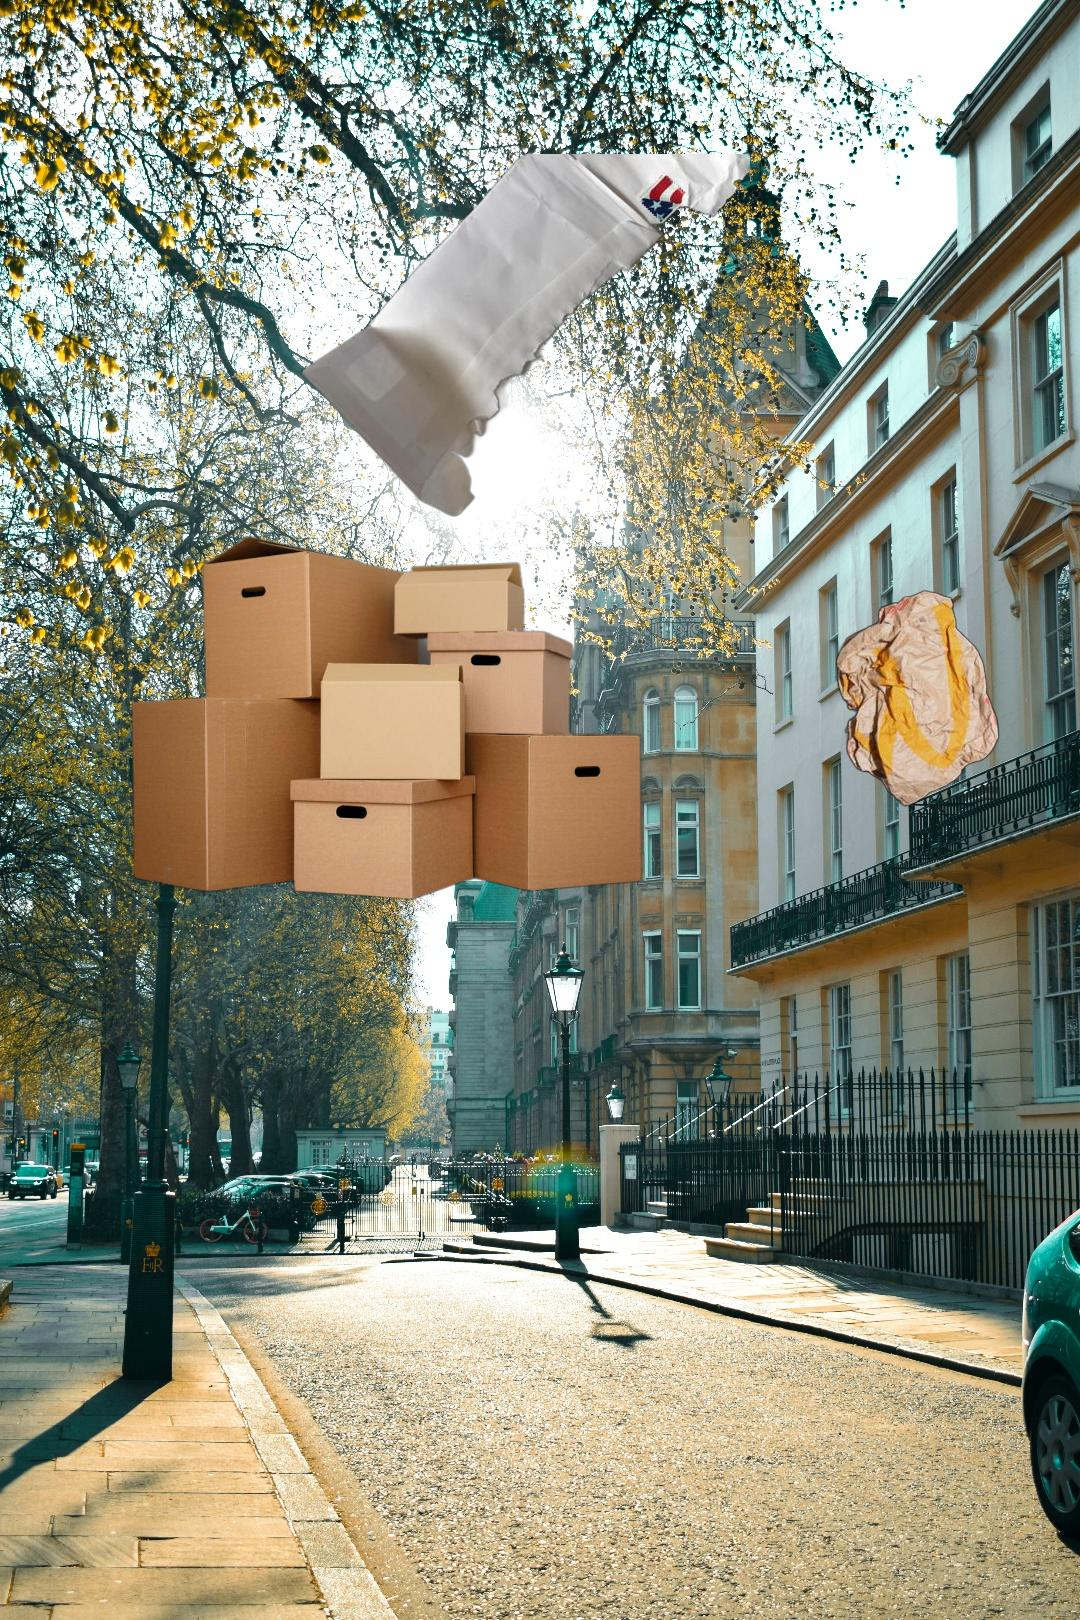paper: (297, 154, 750, 520)
paper-bag: (833, 587, 1002, 808)
trashbox-cardboard: (127, 533, 647, 904)
